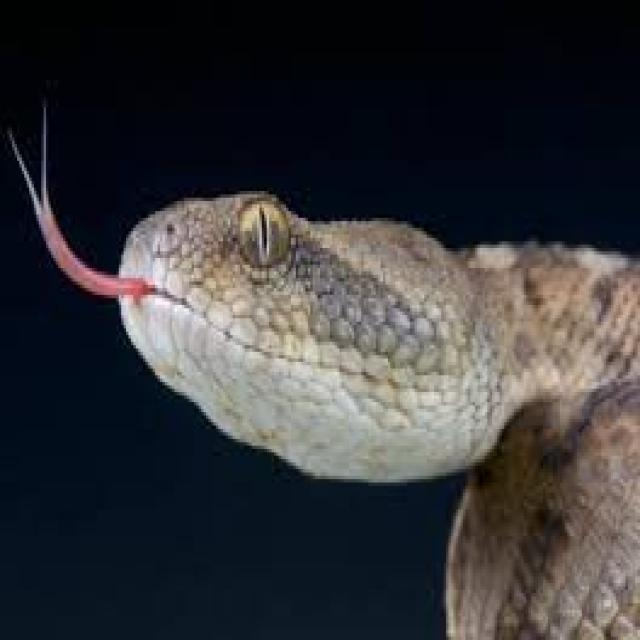Snake: (4, 98, 640, 640)
